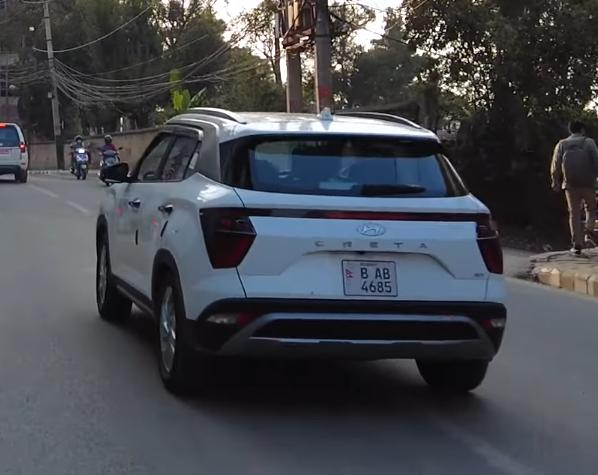car: (94, 99, 509, 400)
scooter: (71, 142, 92, 181)
